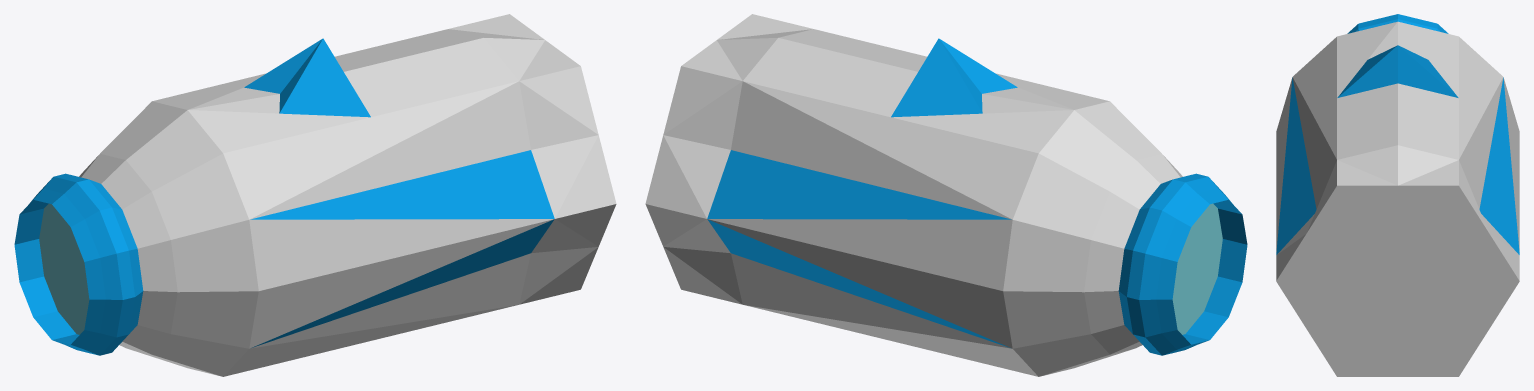
File: Cannon.fbx
3 views of the same model, side by side, from view 1: azimuth 30°, elevation 25°; view 2: azimuth 150°, elevation 25°; view 3: azimuth 270°, elevation 25° (orthographic). The views are drawn at different scales.
Visible parts, largest first — view 1: mesh_1286747928; view 2: mesh_1286747928; view 3: mesh_1286747928.
Part boxes in pixels (box(x1,y1,x2,y2)): mesh_1286747928: box(14, 14, 616, 376); mesh_1286747928: box(645, 14, 1247, 376); mesh_1286747928: box(1276, 14, 1519, 376).
Bounding box in the file's own units: 40 × 23 × 20.
